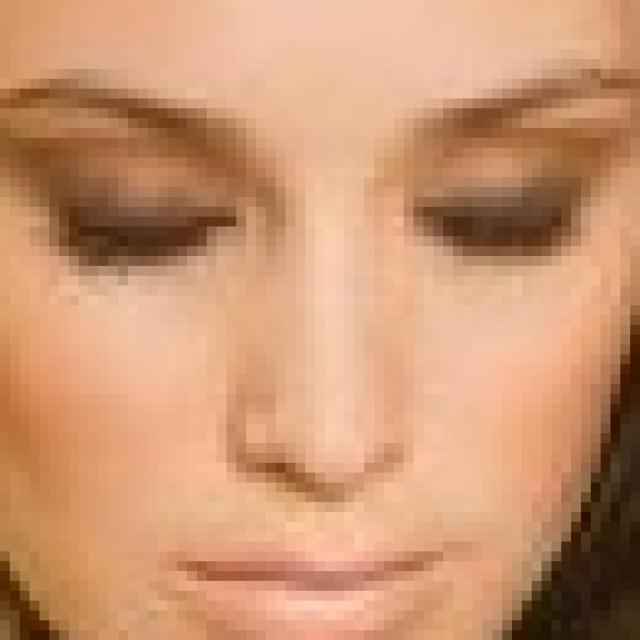Eyeclosed: (64, 200, 238, 274), (413, 181, 562, 260)
